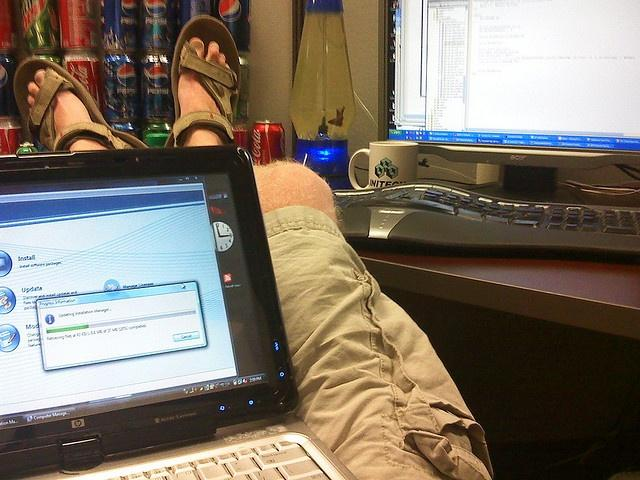AIO PC-Monitor-TV: (375, 0, 639, 171)
